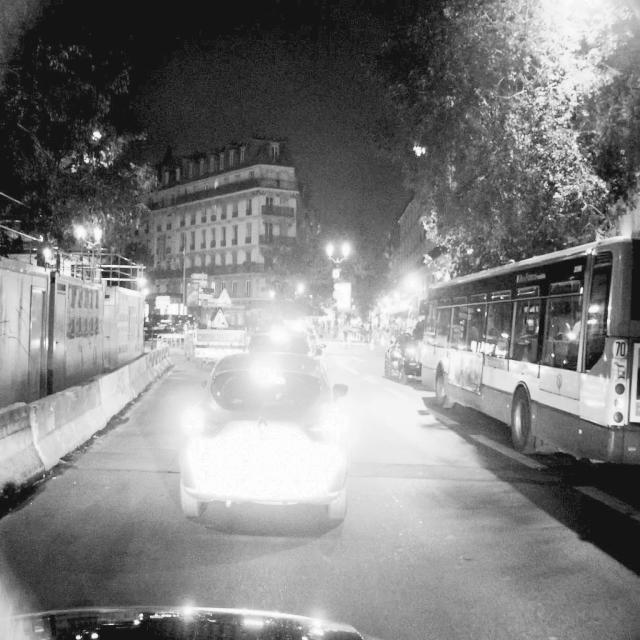Bus: (419, 233, 640, 464)
Car: (184, 346, 354, 531)
Truck: (193, 302, 248, 370)
